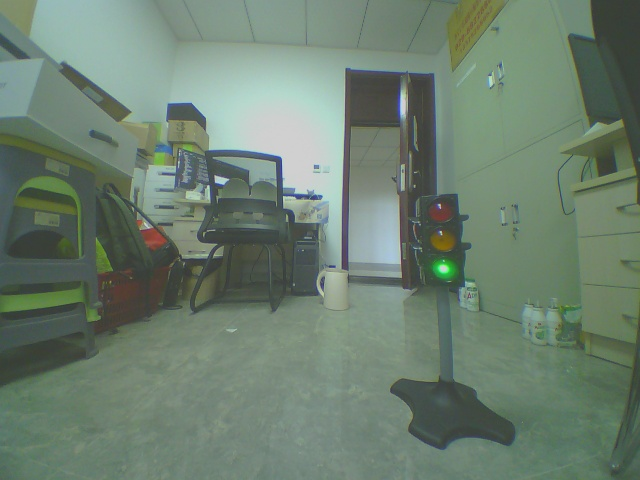Green: (415, 185, 489, 283)
